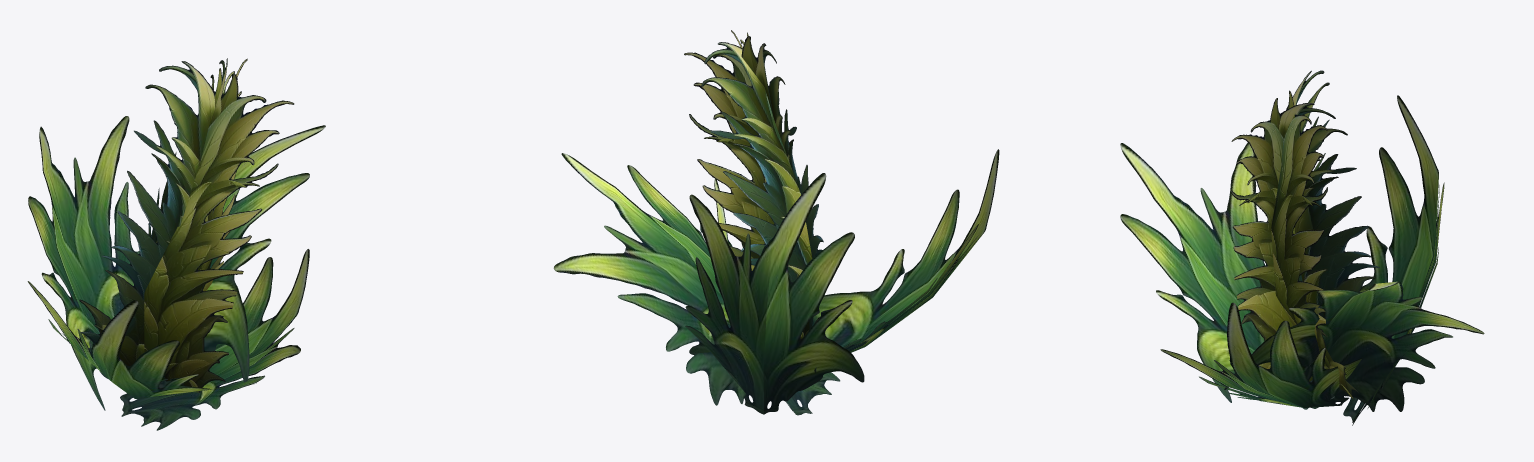
Rendered from Foliage_02.fbx.
3 views of the same model, side by side, from view 1: azimuth 30°, elevation 25°; view 2: azimuth 150°, elevation 25°; view 3: azimuth 270°, elevation 25° (orthographic). The views are drawn at different scales.
Visible parts, largest first — view 1: Leaf_02; view 2: Leaf_02; view 3: Leaf_02.
Part boxes in pixels (<box>): Leaf_02: <box>27,58,325,430</box>; Leaf_02: <box>553,30,999,415</box>; Leaf_02: <box>1120,70,1484,425</box>.
Size of the model in its own units: 205 by 167 by 173.
Materials: 1 (1 with a texture image).
